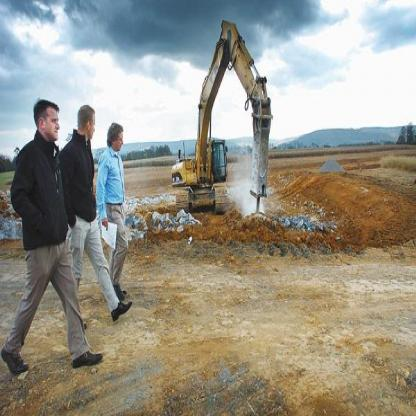excavator: (170, 17, 276, 219)
person: (4, 90, 104, 373), (61, 90, 132, 328), (97, 118, 136, 309)
